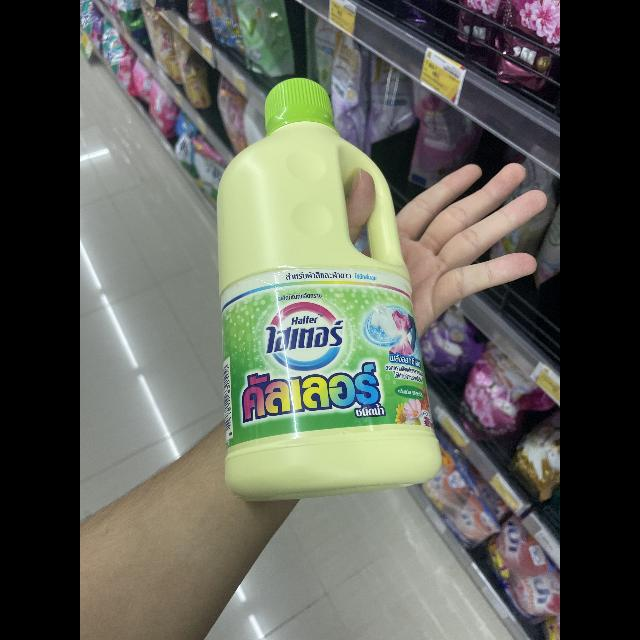chemical_plastic_bottle: (200, 61, 460, 498)
